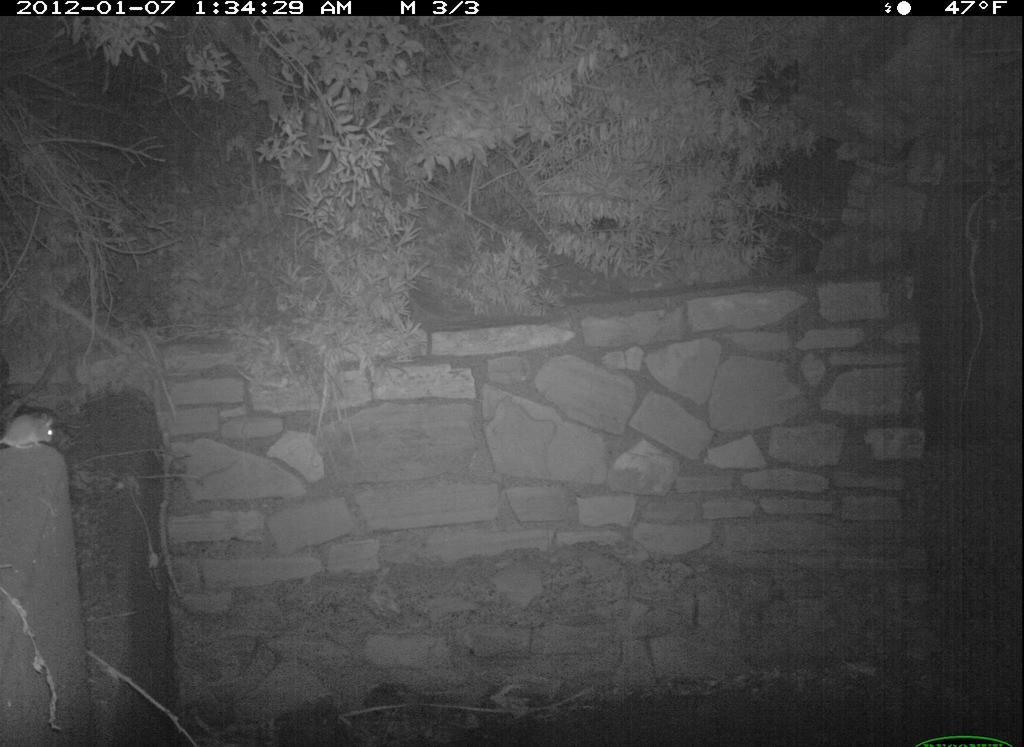rodent: (3, 395, 72, 466)
